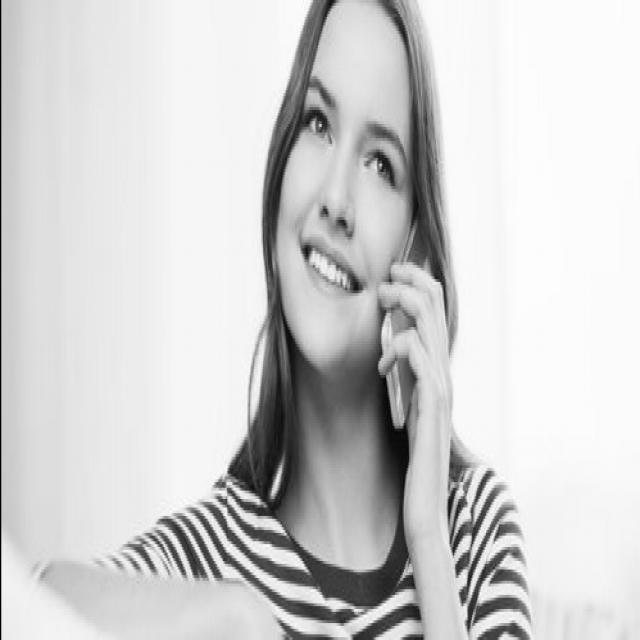phone: (337, 107, 453, 446)
